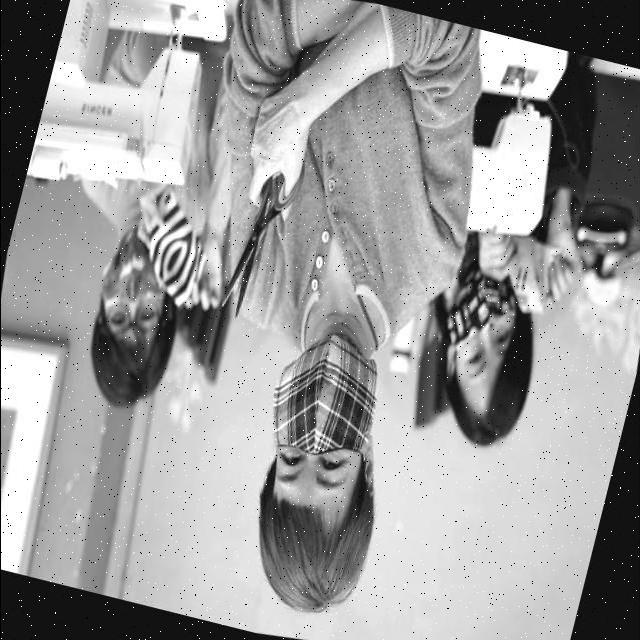mask: (266, 346, 374, 466), (440, 274, 518, 336), (106, 252, 162, 302)
no_apron: (242, 91, 316, 205)
